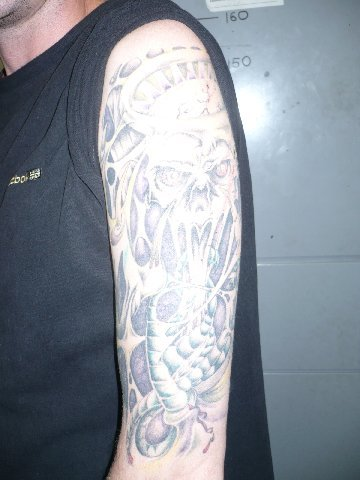tatu7_zmeya: (105, 41, 248, 451)
